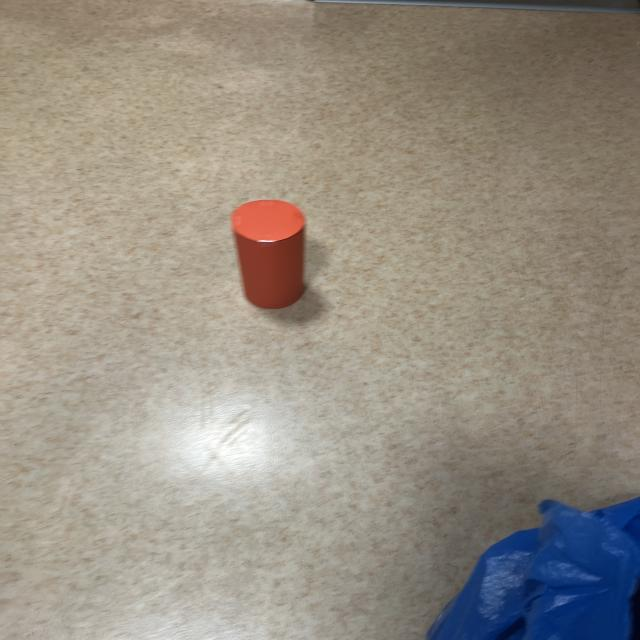przeszkoda: (231, 200, 305, 309)
